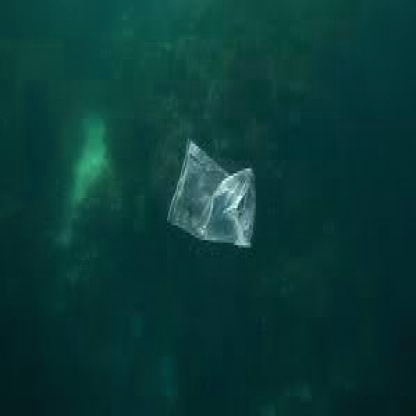pbag: (167, 136, 256, 250)
